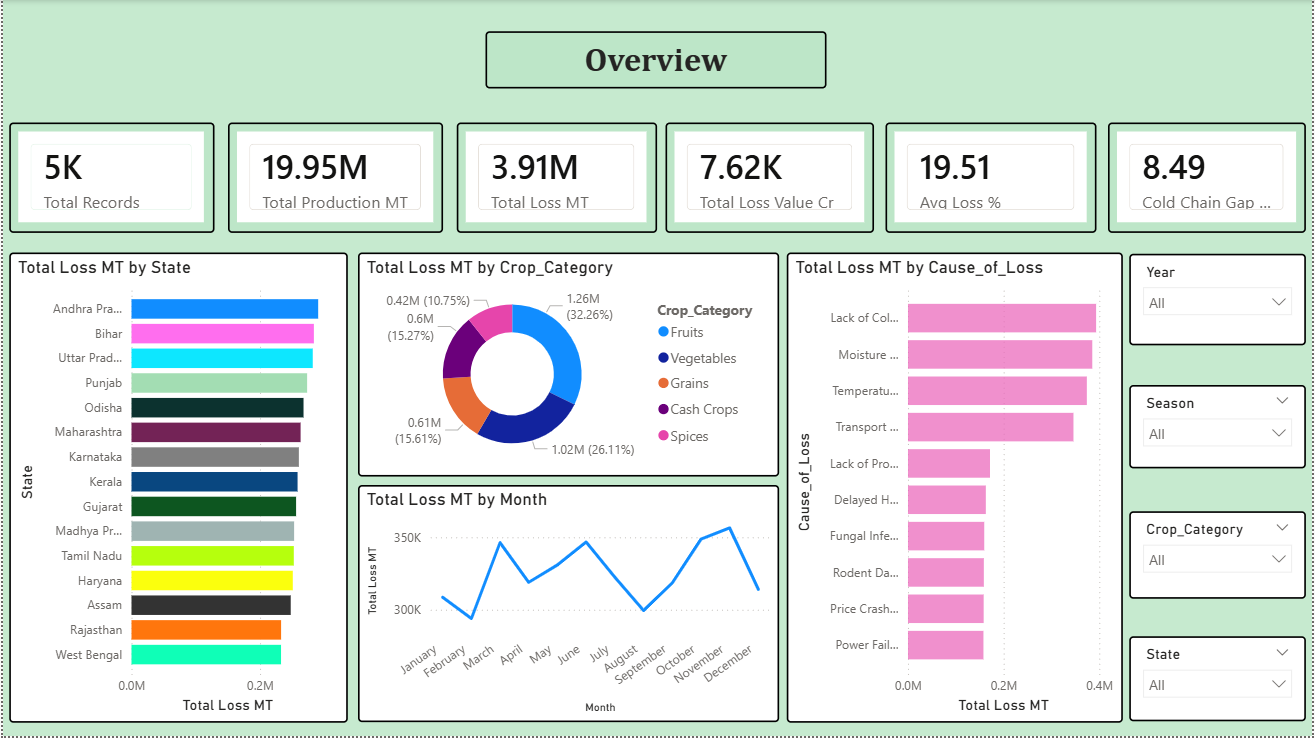

What the dashboard file says about the page in this screenshot:
{"tool":"powerbi","page":{"name":"Overview","canvas":[1280,720],"ordinal":0},"visuals":[{"type":"cardVisual","title":"Total Records","fields":{"Data":["Measures (2).Total Records"]},"box":[6.1,119.8,200.5,107.6],"z":0},{"type":"cardVisual","fields":{"Data":["Measures (2).Total Production MT"]},"box":[220.1,119.8,210.3,107.6],"z":1000},{"type":"cardVisual","fields":{"Data":["Measures (2).Total Loss MT"]},"box":[443.9,119.8,195.7,107.6],"z":2000},{"type":"cardVisual","fields":{"Data":["Measures (2).Total Loss Value Cr"]},"box":[648.1,119.8,204.2,107.6],"z":3000},{"type":"cardVisual","fields":{"Data":["Measures (2).Avg Loss %"]},"box":[863.3,119.8,206.7,107.6],"z":4000},{"type":"cardVisual","fields":{"Data":["Measures (2).Cold Chain Gap %"]},"box":[1081,119.8,193.2,107.6],"z":5000},{"type":"clusteredBarChart","fields":{"Y":["Measures (2).Total Loss MT"],"Category":["Supply_Chain_Losses.State"]},"box":[6.1,247,331.4,459.8],"z":6000},{"type":"donutChart","fields":{"Category":["Supply_Chain_Losses.Crop_Category"],"Y":["Measures (2).Total Loss MT"]},"box":[347.3,247,412.1,218.9],"z":7000},{"type":"lineChart","fields":{"Category":["Supply_Chain_Losses.Date.Variation.Date Hierarchy.Month"],"Y":["Measures (2).Total Loss MT"]},"box":[347.3,474.5,412.1,232.3],"z":8000},{"type":"clusteredBarChart","fields":{"Category":["Supply_Chain_Losses.Cause_of_Loss"],"Y":["Measures (2).Total Loss MT"]},"box":[766.7,247,328.9,459.8],"z":9000},{"type":"slicer","fields":{"Values":["Supply_Chain_Losses.Year"]},"box":[1101.8,248.2,172.4,89.3],"z":10000},{"type":"slicer","fields":{"Values":["Supply_Chain_Losses.Season"]},"box":[1101.8,376.6,172.4,81.9],"z":11000},{"type":"slicer","fields":{"Values":["Supply_Chain_Losses.Crop_Category"]},"box":[1101.8,500.1,172.4,85.6],"z":12000},{"type":"slicer","fields":{"Values":["Supply_Chain_Losses.State"]},"box":[1101.8,622.4,172.4,83.2],"z":13000},{"type":"textbox","box":[472,30.6,333.8,56.3],"z":14000}]}

Visuals, with their boxes in screenshot pixels (x1, y1, x2, y2), scaled from the page's 1280x720 canvas onto the 1315x738 screenshot:
"Total Records" cardVisual: locate(6, 123, 212, 233)
cardVisual - Measures (2).Total Production MT: locate(226, 123, 442, 233)
cardVisual - Measures (2).Total Loss MT: locate(456, 123, 657, 233)
cardVisual - Measures (2).Total Loss Value Cr: locate(666, 123, 876, 233)
cardVisual - Measures (2).Avg Loss %: locate(887, 123, 1099, 233)
cardVisual - Measures (2).Cold Chain Gap %: locate(1111, 123, 1309, 233)
clusteredBarChart - Measures (2).Total Loss MT x Supply_Chain_Losses.State: locate(6, 253, 347, 724)
donutChart - Supply_Chain_Losses.Crop_Category x Measures (2).Total Loss MT: locate(357, 253, 780, 478)
lineChart - Supply_Chain_Losses.Date.Variation.Date Hierarchy.Month x Measures (2).Total Loss MT: locate(357, 486, 780, 724)
clusteredBarChart - Supply_Chain_Losses.Cause_of_Loss x Measures (2).Total Loss MT: locate(788, 253, 1126, 724)
slicer - Supply_Chain_Losses.Year: locate(1132, 254, 1309, 346)
slicer - Supply_Chain_Losses.Season: locate(1132, 386, 1309, 470)
slicer - Supply_Chain_Losses.Crop_Category: locate(1132, 513, 1309, 600)
slicer - Supply_Chain_Losses.State: locate(1132, 638, 1309, 723)
textbox: locate(485, 31, 828, 89)
